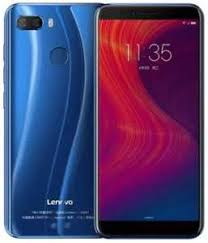lenovo: (94, 2, 204, 239), (3, 2, 97, 239)
